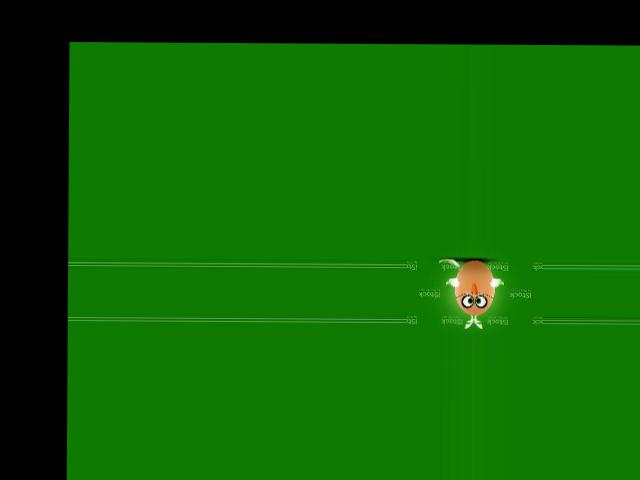egg: (453, 259, 494, 315)
